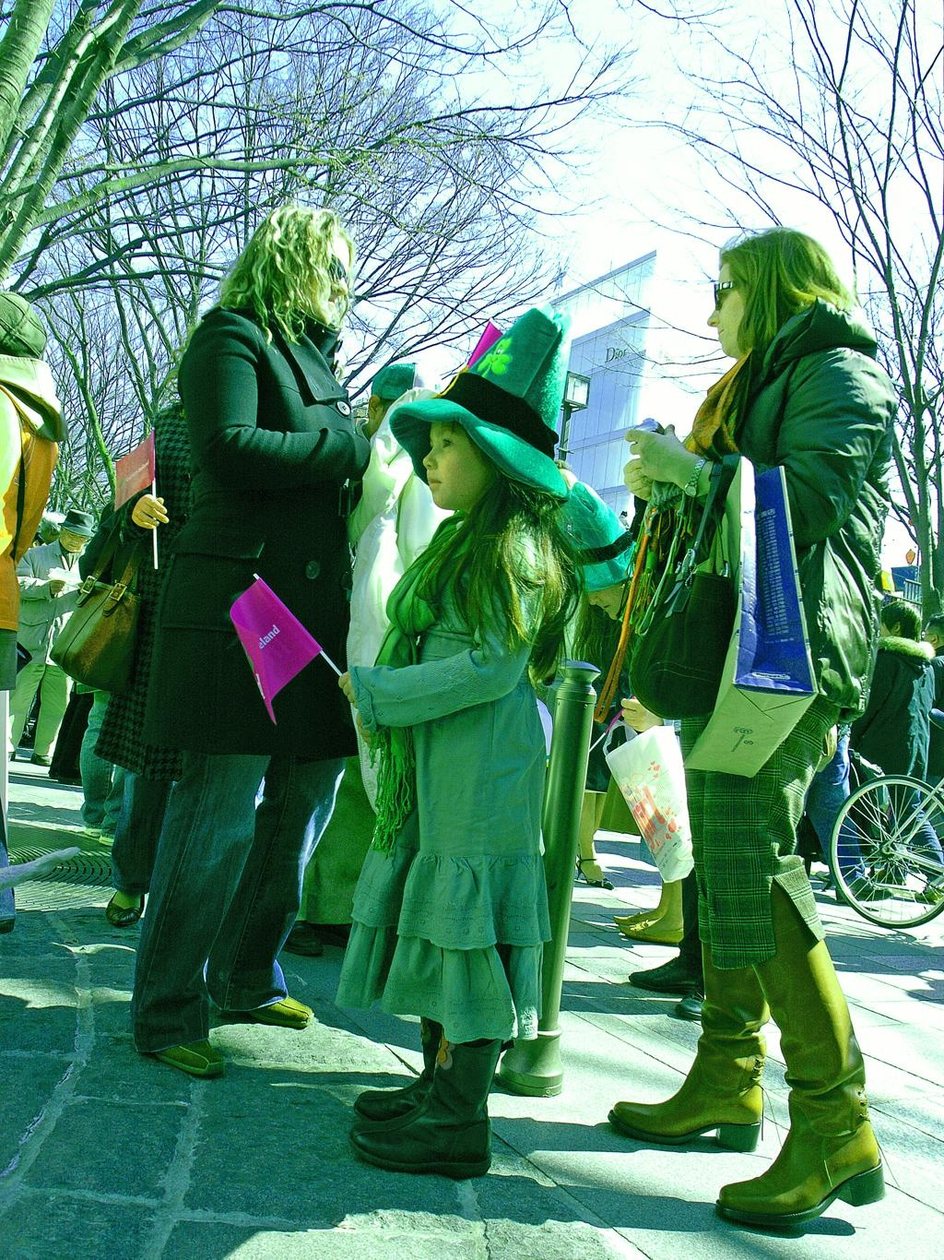human_face: (422, 416, 496, 510), (706, 260, 754, 358), (295, 237, 349, 324), (585, 572, 647, 625), (59, 526, 86, 552), (879, 613, 898, 640), (924, 622, 938, 649)
